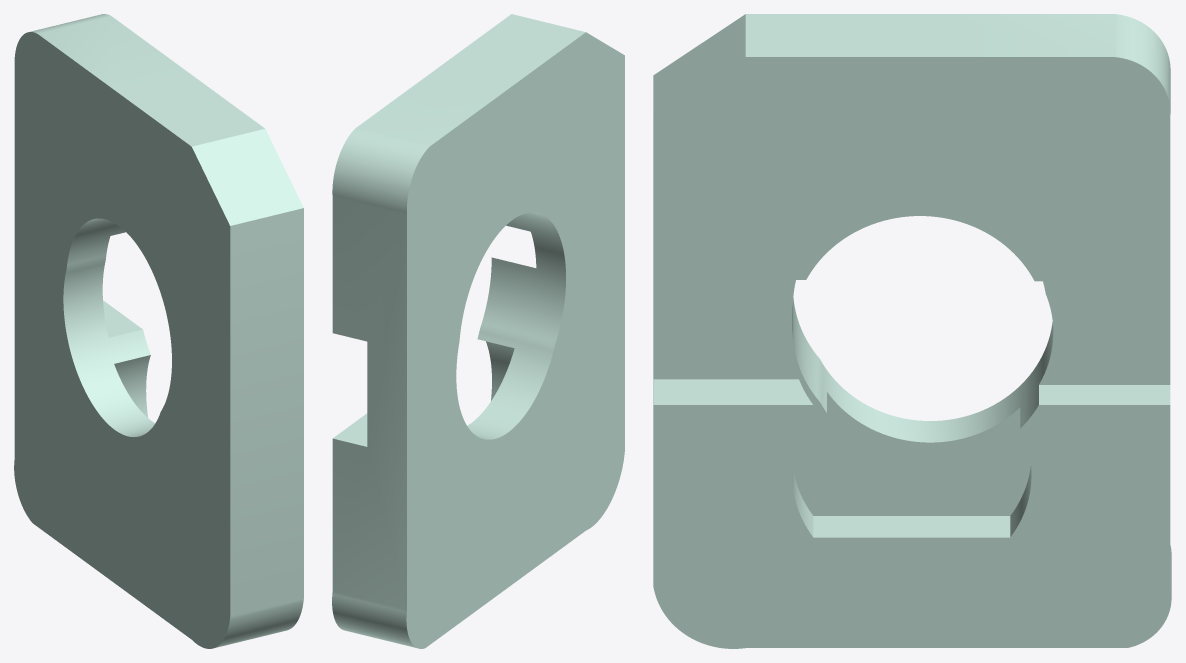
The picture shows the model from 3 angles, left to right: view 1: azimuth 30°, elevation 25°; view 2: azimuth 150°, elevation 25°; view 3: azimuth 270°, elevation 25°; orthographic projection. The views are drawn at different scales.
Parts seen in each view (by area): view 1: Renderer Node; view 2: Renderer Node; view 3: Renderer Node.
Boxes of the visible parts, left/top/right/bottom form: Renderer Node: left=14, top=14, right=303, bottom=648; Renderer Node: left=332, top=14, right=624, bottom=648; Renderer Node: left=653, top=14, right=1171, bottom=648.
Size of the model in its own units: 0.2344 by 1.5 by 1.19.
